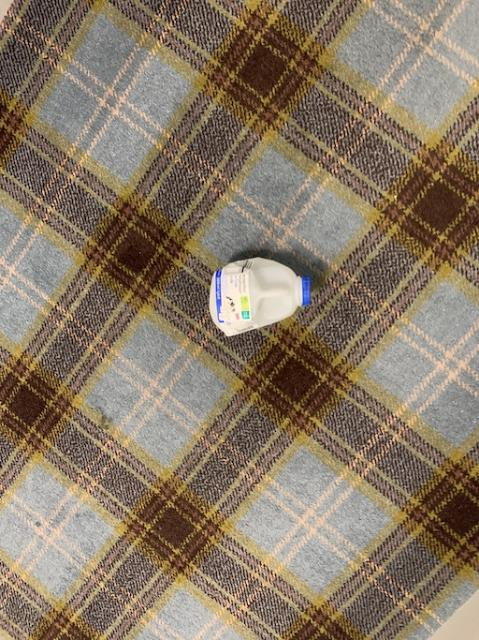plastic: (209, 257, 309, 335)
